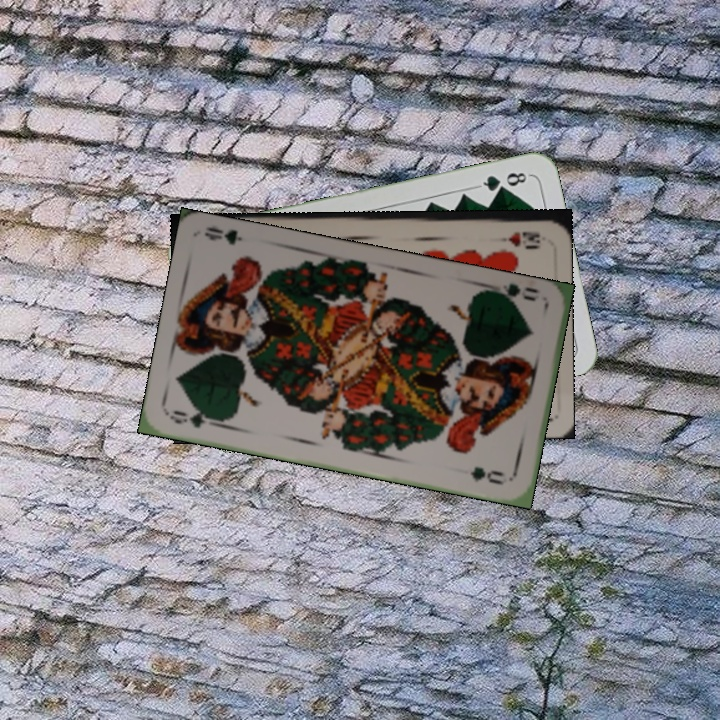G8: (474, 168, 532, 195)
GO: (486, 279, 543, 308), (166, 406, 226, 431)
H10: (486, 227, 542, 245)
